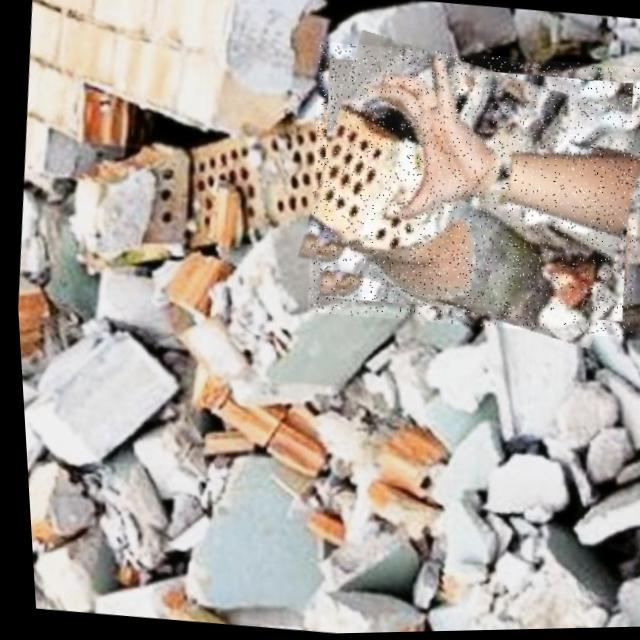Person in Rubble: (290, 36, 640, 345)
